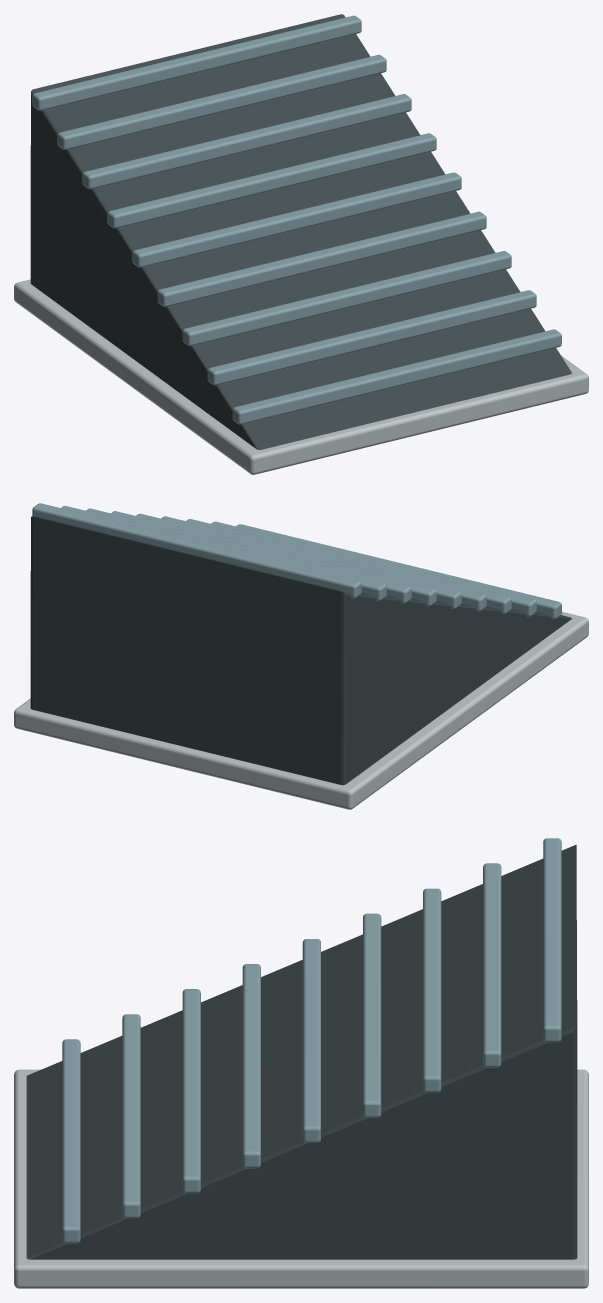
Rendered from abandoned-tidal-model-testing-hall-sloped-wave-absorbe-b2d2e521__32338.glb.
3 views of the same model, one above another, from view 1: azimuth 30°, elevation 25°; view 2: azimuth 150°, elevation 25°; view 3: azimuth 270°, elevation 25° (orthographic). The views are drawn at different scales.
Visible parts, largest first — view 1: sloped-wave-absorber; view 2: sloped-wave-absorber; view 3: sloped-wave-absorber.
Boxes of the visible parts, <box> form: sloped-wave-absorber: <box>14,14,588,474</box>; sloped-wave-absorber: <box>14,503,588,809</box>; sloped-wave-absorber: <box>14,838,588,1288</box>.
Bounding box in the file's own units: 0.9001 × 0.5465 × 1.1.
